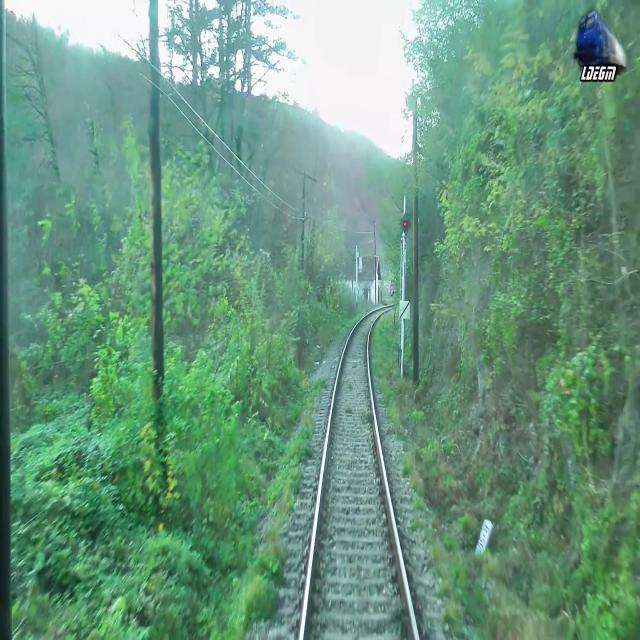rail-track: (305, 309, 415, 639)
